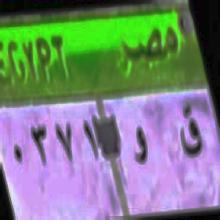0: (11, 130, 25, 180)
1: (79, 114, 99, 170)
3: (28, 118, 51, 176)
7: (56, 117, 73, 174)
qaaf: (172, 94, 204, 172)
waw: (127, 114, 153, 184)
